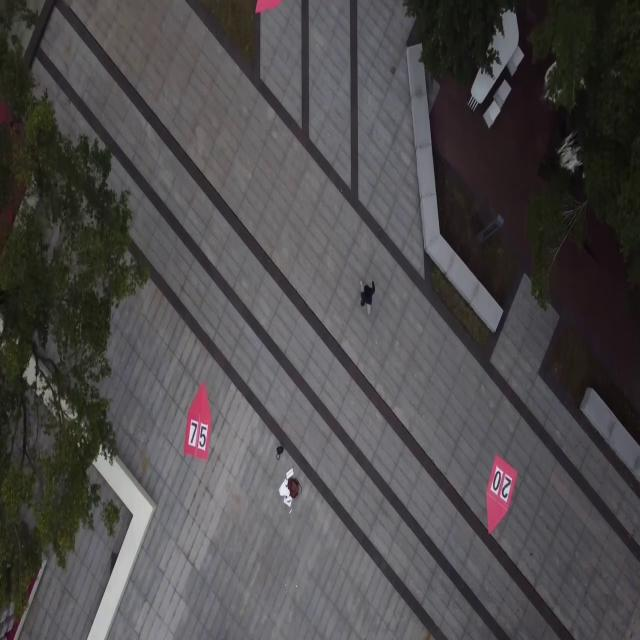-sign-: (486, 453, 518, 535), (183, 381, 212, 462), (254, 0, 283, 13)
